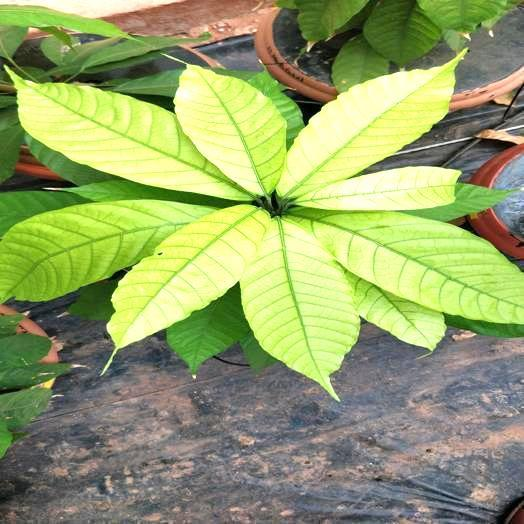Healthy Leaf: (166, 287, 248, 376), (233, 71, 303, 147), (363, 0, 440, 65), (0, 5, 133, 38), (62, 179, 222, 206), (0, 191, 86, 237), (331, 35, 389, 92), (296, 0, 368, 42), (417, 0, 505, 31), (99, 69, 182, 97)
Iron: (10, 71, 250, 199), (277, 58, 459, 200), (292, 212, 523, 321), (108, 205, 268, 348), (240, 219, 359, 399), (0, 199, 213, 299), (175, 66, 285, 195), (348, 273, 445, 349), (296, 166, 459, 209)
